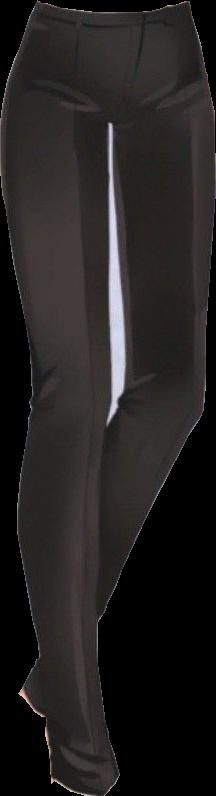Hemline: (48, 773, 121, 795)
Pantleg: (18, 1, 214, 716), (0, 1, 147, 794)
Waistline: (33, 0, 188, 20)
